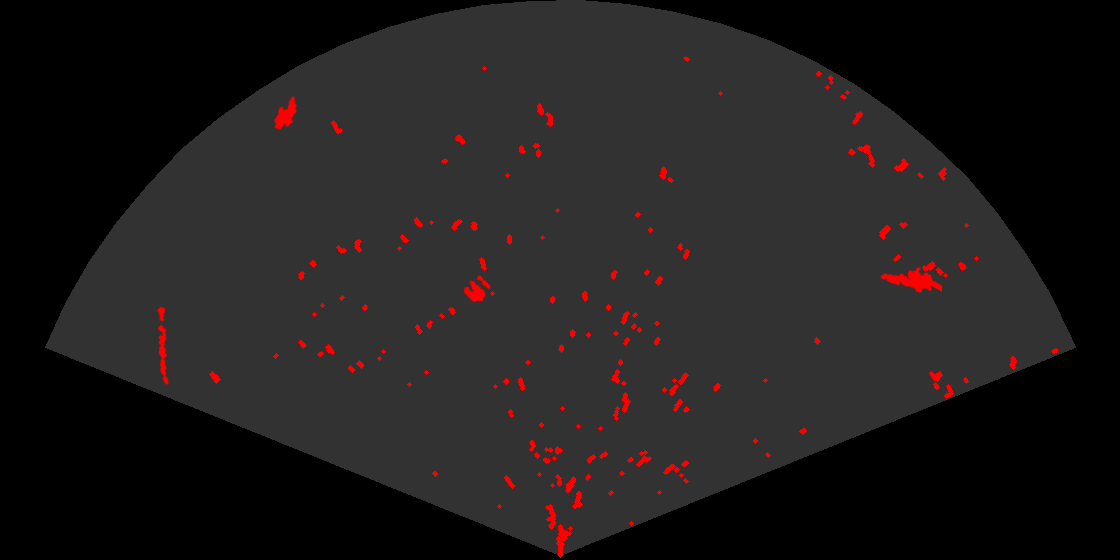AUV: (272, 94, 298, 132)
ball: (462, 274, 492, 304)
chain: (155, 306, 170, 386)
frogman: (879, 265, 942, 294)
